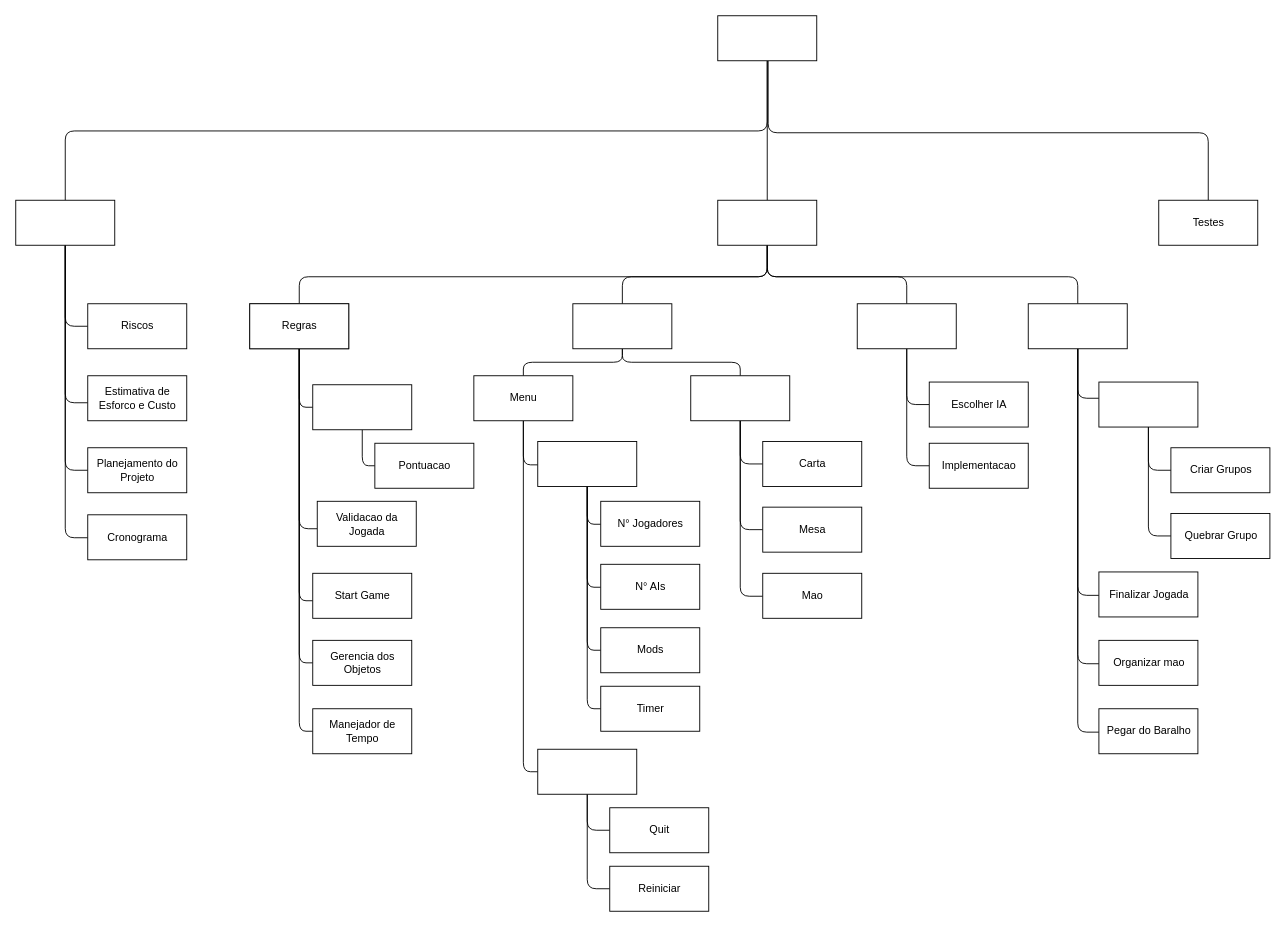
Image size: 1286x927. Some labels were removed from this diagram. The shapes that lost their labels are listed below. From the top down, each one's centre as x and y in pixels, then its label:
At [767,38]: "Object".
At [65,222]: "Preparacao".
At [767,222]: "Desenvolvimento".
At [622,326]: "I.V. / HUD".
At [906,326]: "IA".
At [1077,326]: "Player".
At [362,407]: "Condicoes de Fim de Jogo".
At [740,398]: "Sprites".
At [1148,404]: "Mexer Cartas".
At [587,463]: "Start".
At [587,771]: "Pause".
